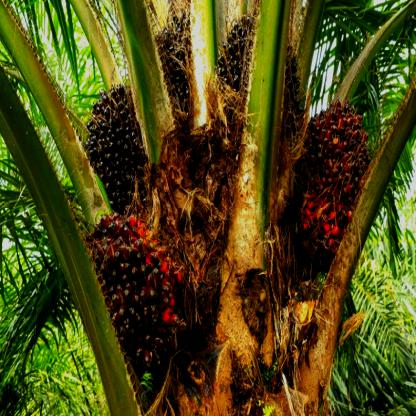1: (78, 212, 184, 368), (294, 97, 384, 266)
palm-oil: (84, 90, 154, 212), (154, 14, 193, 107), (216, 5, 254, 96), (283, 35, 310, 144)
